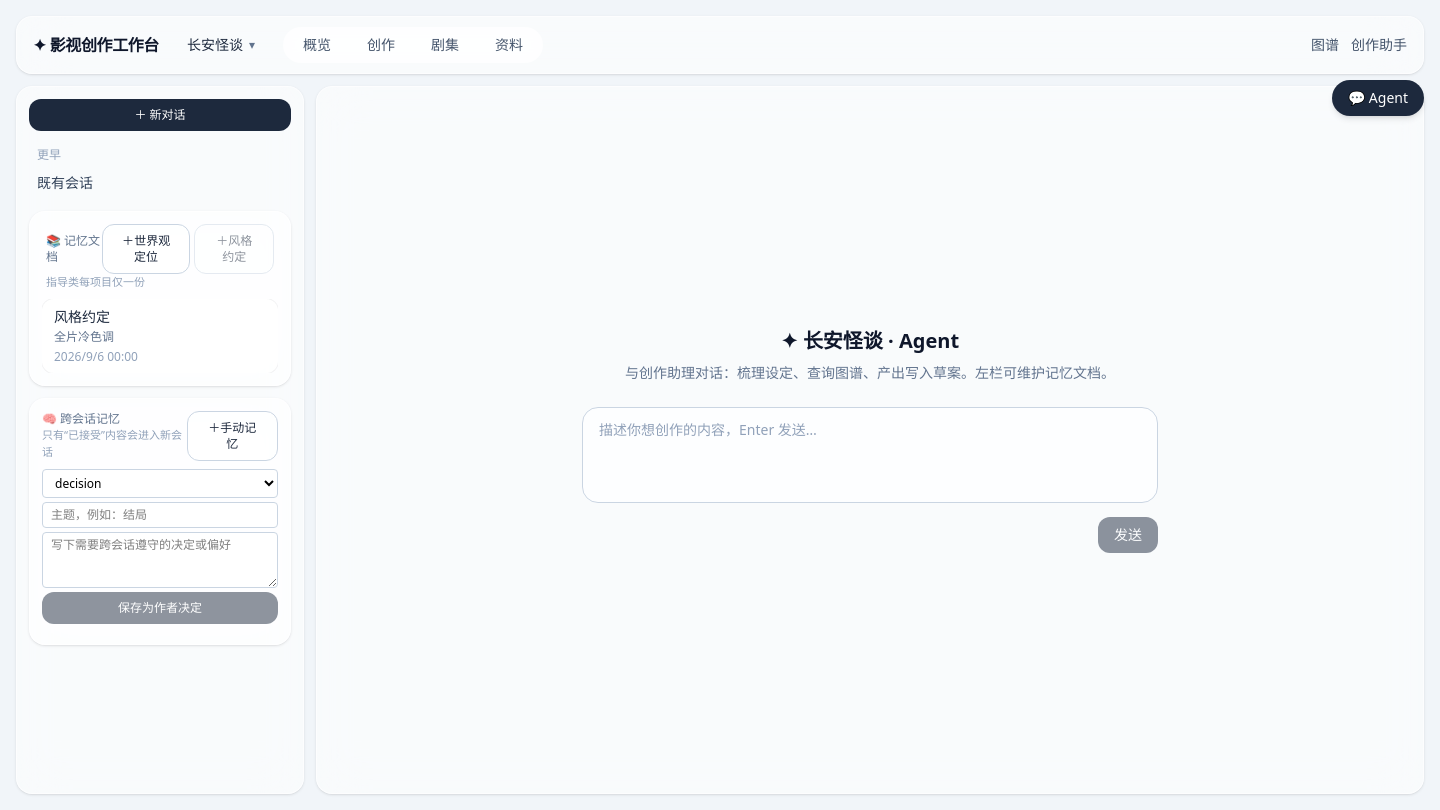
Test: F10 FU2: AgentHome › 新建会话 → 导航到会话路由并挂载会话视图（等价类—有效创建）
Expected: the link with test id "agent-session-item" is shown, [37, 173, 93, 192]
Step 1. Click the button with test id "agent-session-create" → click(160, 115), box [29, 99, 291, 131]
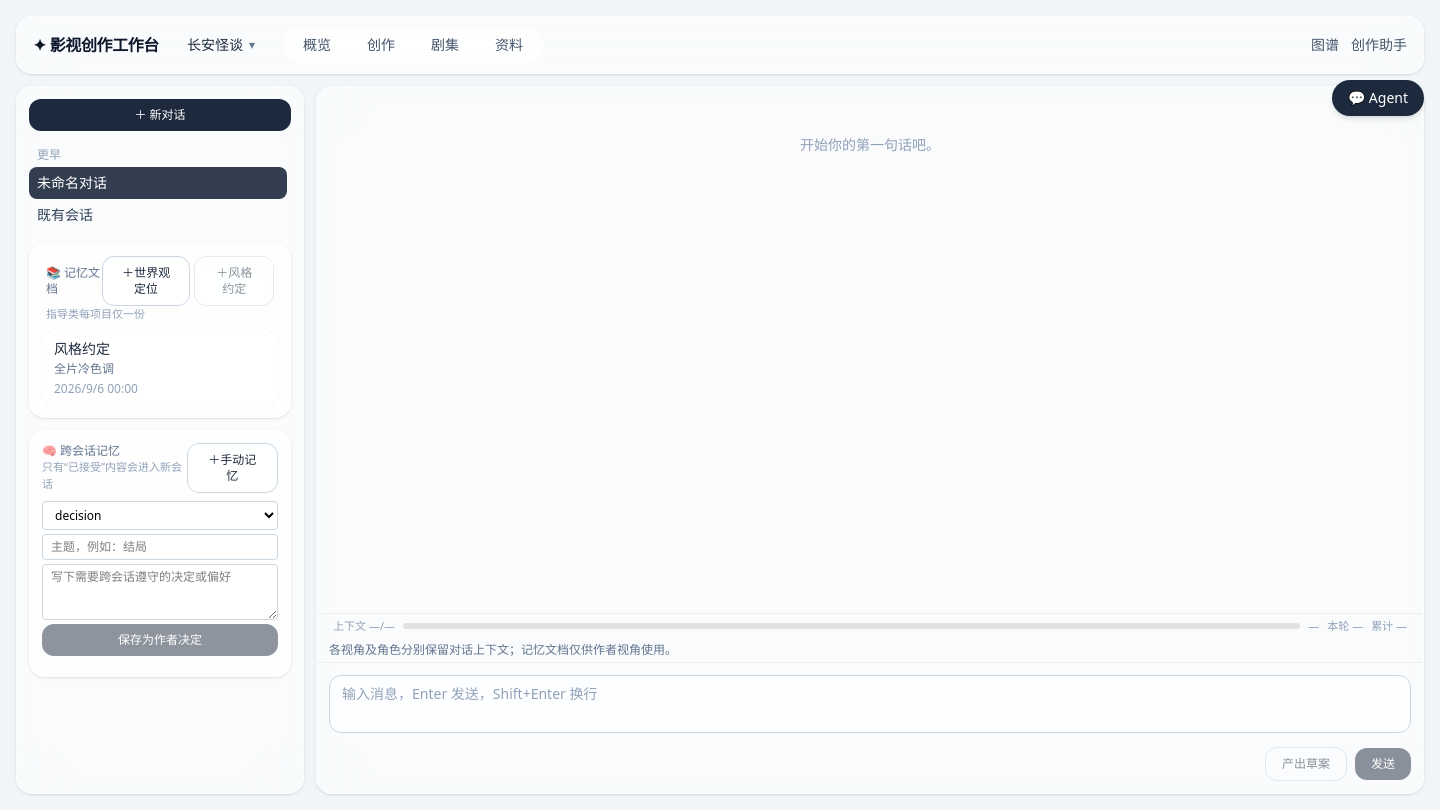
Expected: the element with test id "agent-session-view" is shown
